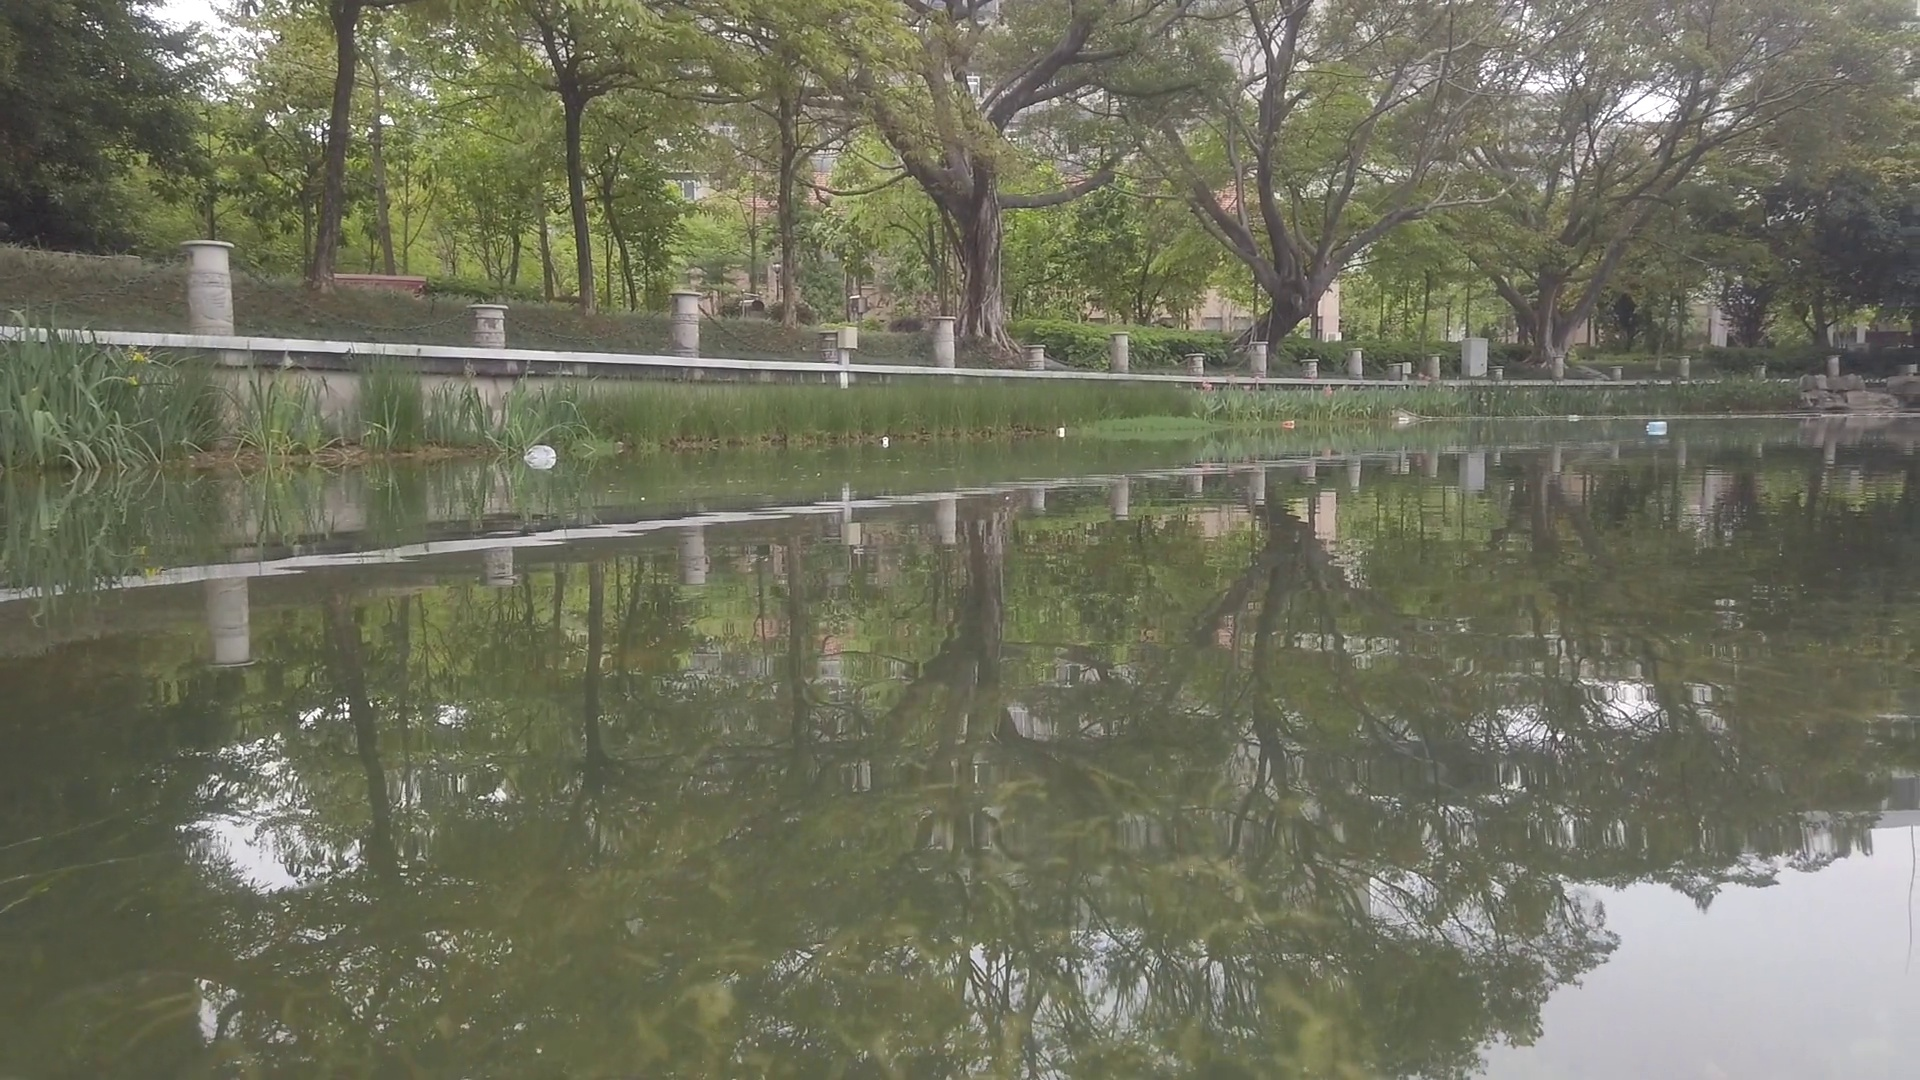bottle: (1568, 414, 1581, 421), (1399, 417, 1411, 423), (880, 435, 889, 443), (1284, 419, 1295, 426)
carton: (1646, 419, 1669, 433), (1058, 426, 1065, 439)
plastic: (524, 443, 556, 462)
